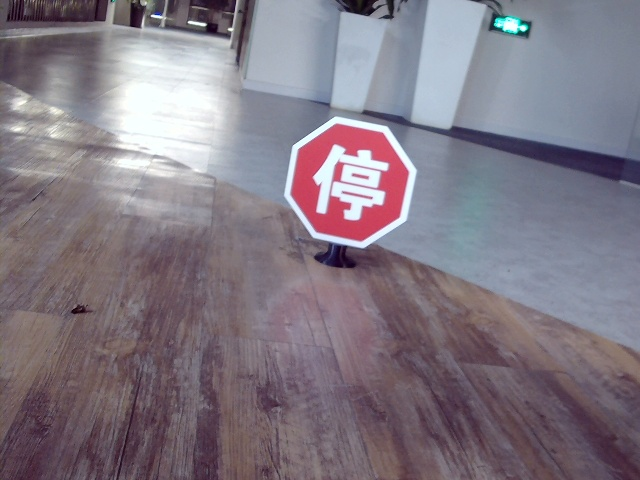stop: (309, 141, 389, 219)
